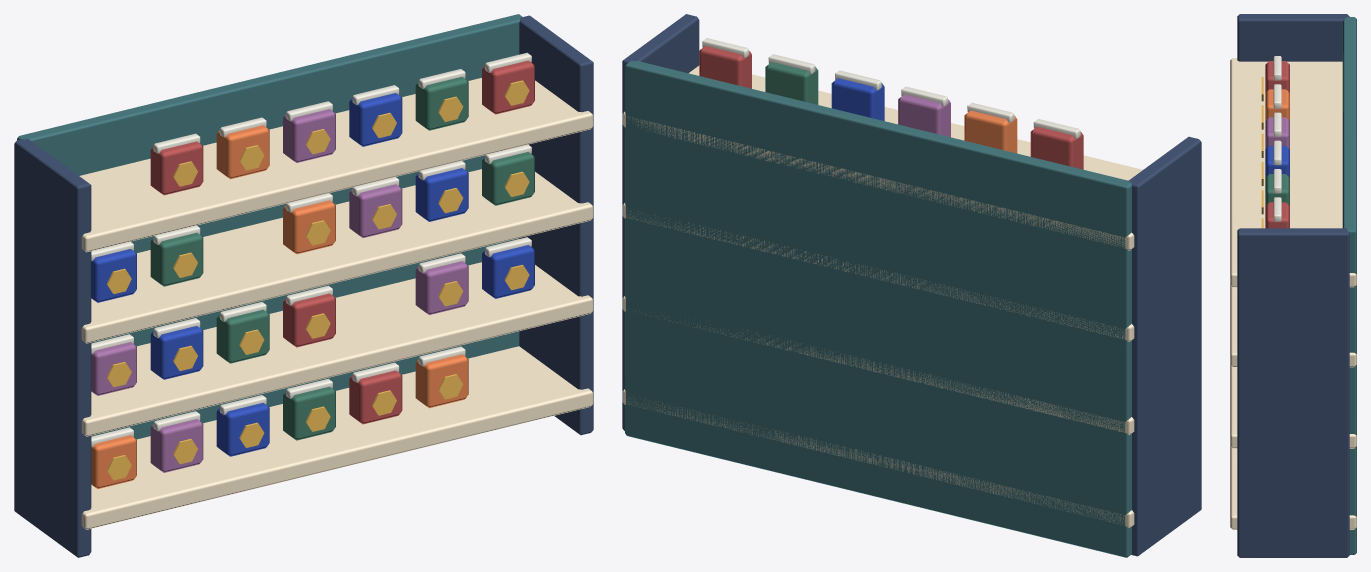
File: snack_rack.glb
The picture shows the model from 3 angles, left to right: view 1: azimuth 30°, elevation 25°; view 2: azimuth 150°, elevation 25°; view 3: azimuth 270°, elevation 25°; orthographic projection. The views are drawn at different scales.
Parts seen in each view (by area): view 1: snack_rack; view 2: snack_rack; view 3: snack_rack.
Part boxes in pixels (x1=…): snack_rack: x1=14, y1=14, x2=593, y2=557; snack_rack: x1=622, y1=14, x2=1201, y2=557; snack_rack: x1=1230, y1=14, x2=1356, y2=557.
Size of the model in its own units: 2.97 by 2.04 by 0.72.
